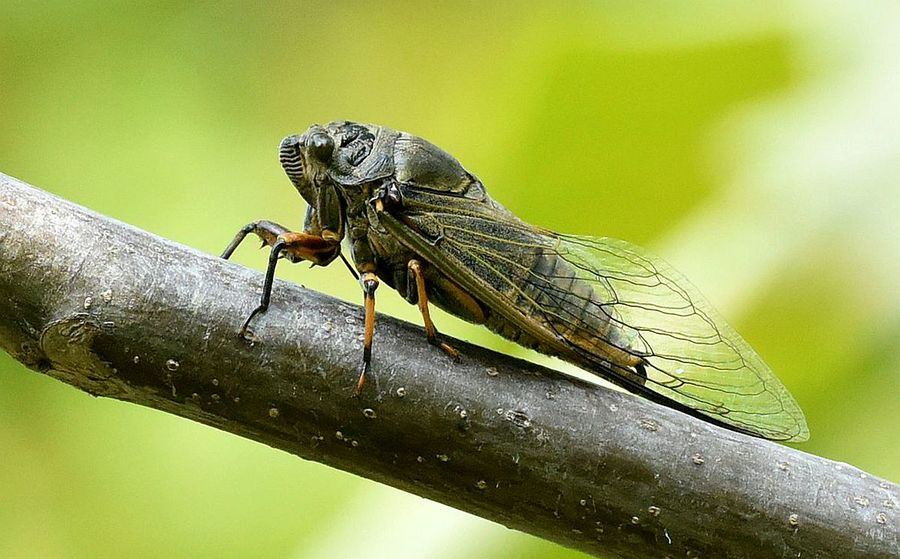huangchong: (252, 115, 814, 449)
